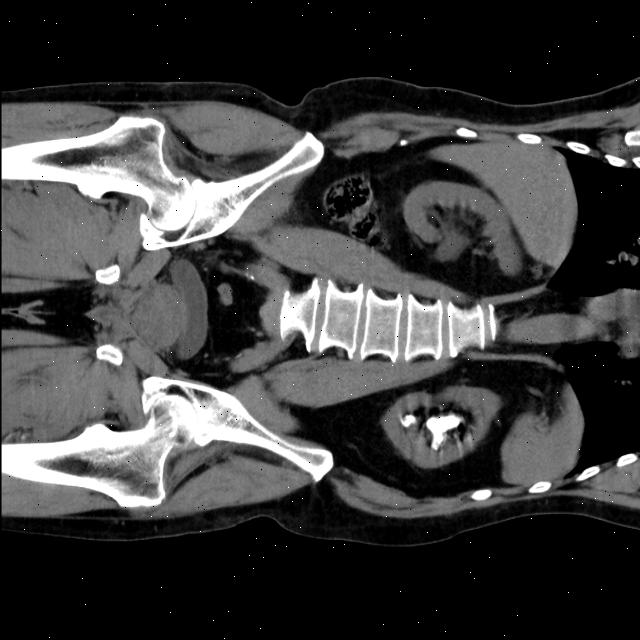kidneystone: (426, 415, 460, 451), (400, 415, 415, 427)
